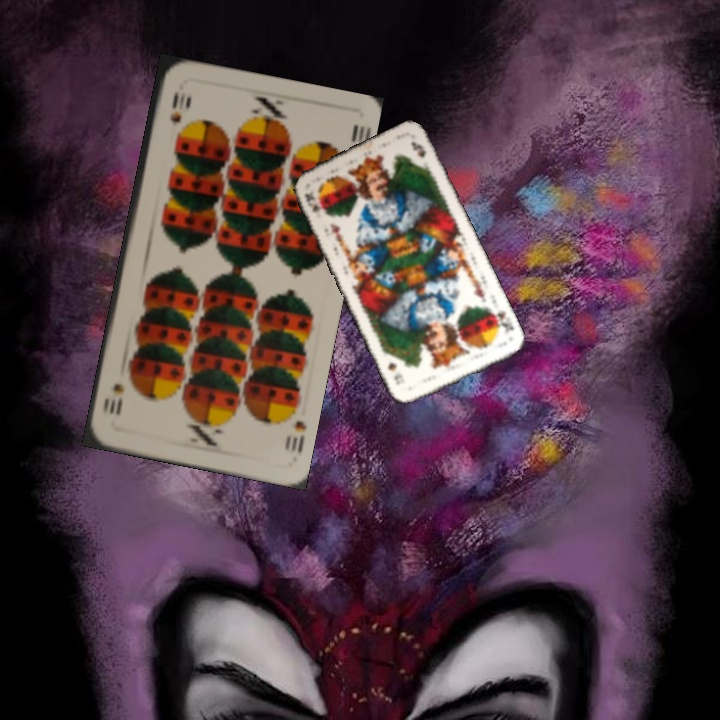S10: (280, 416, 309, 455), (165, 87, 187, 128)
SK: (301, 188, 328, 220), (487, 306, 517, 334)
